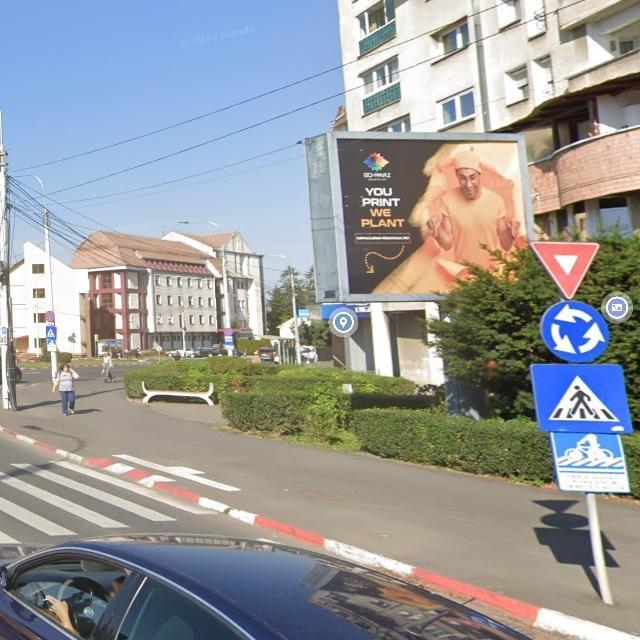info_crosswalk: (529, 361, 637, 434)
prio_give_way: (529, 241, 599, 300)
